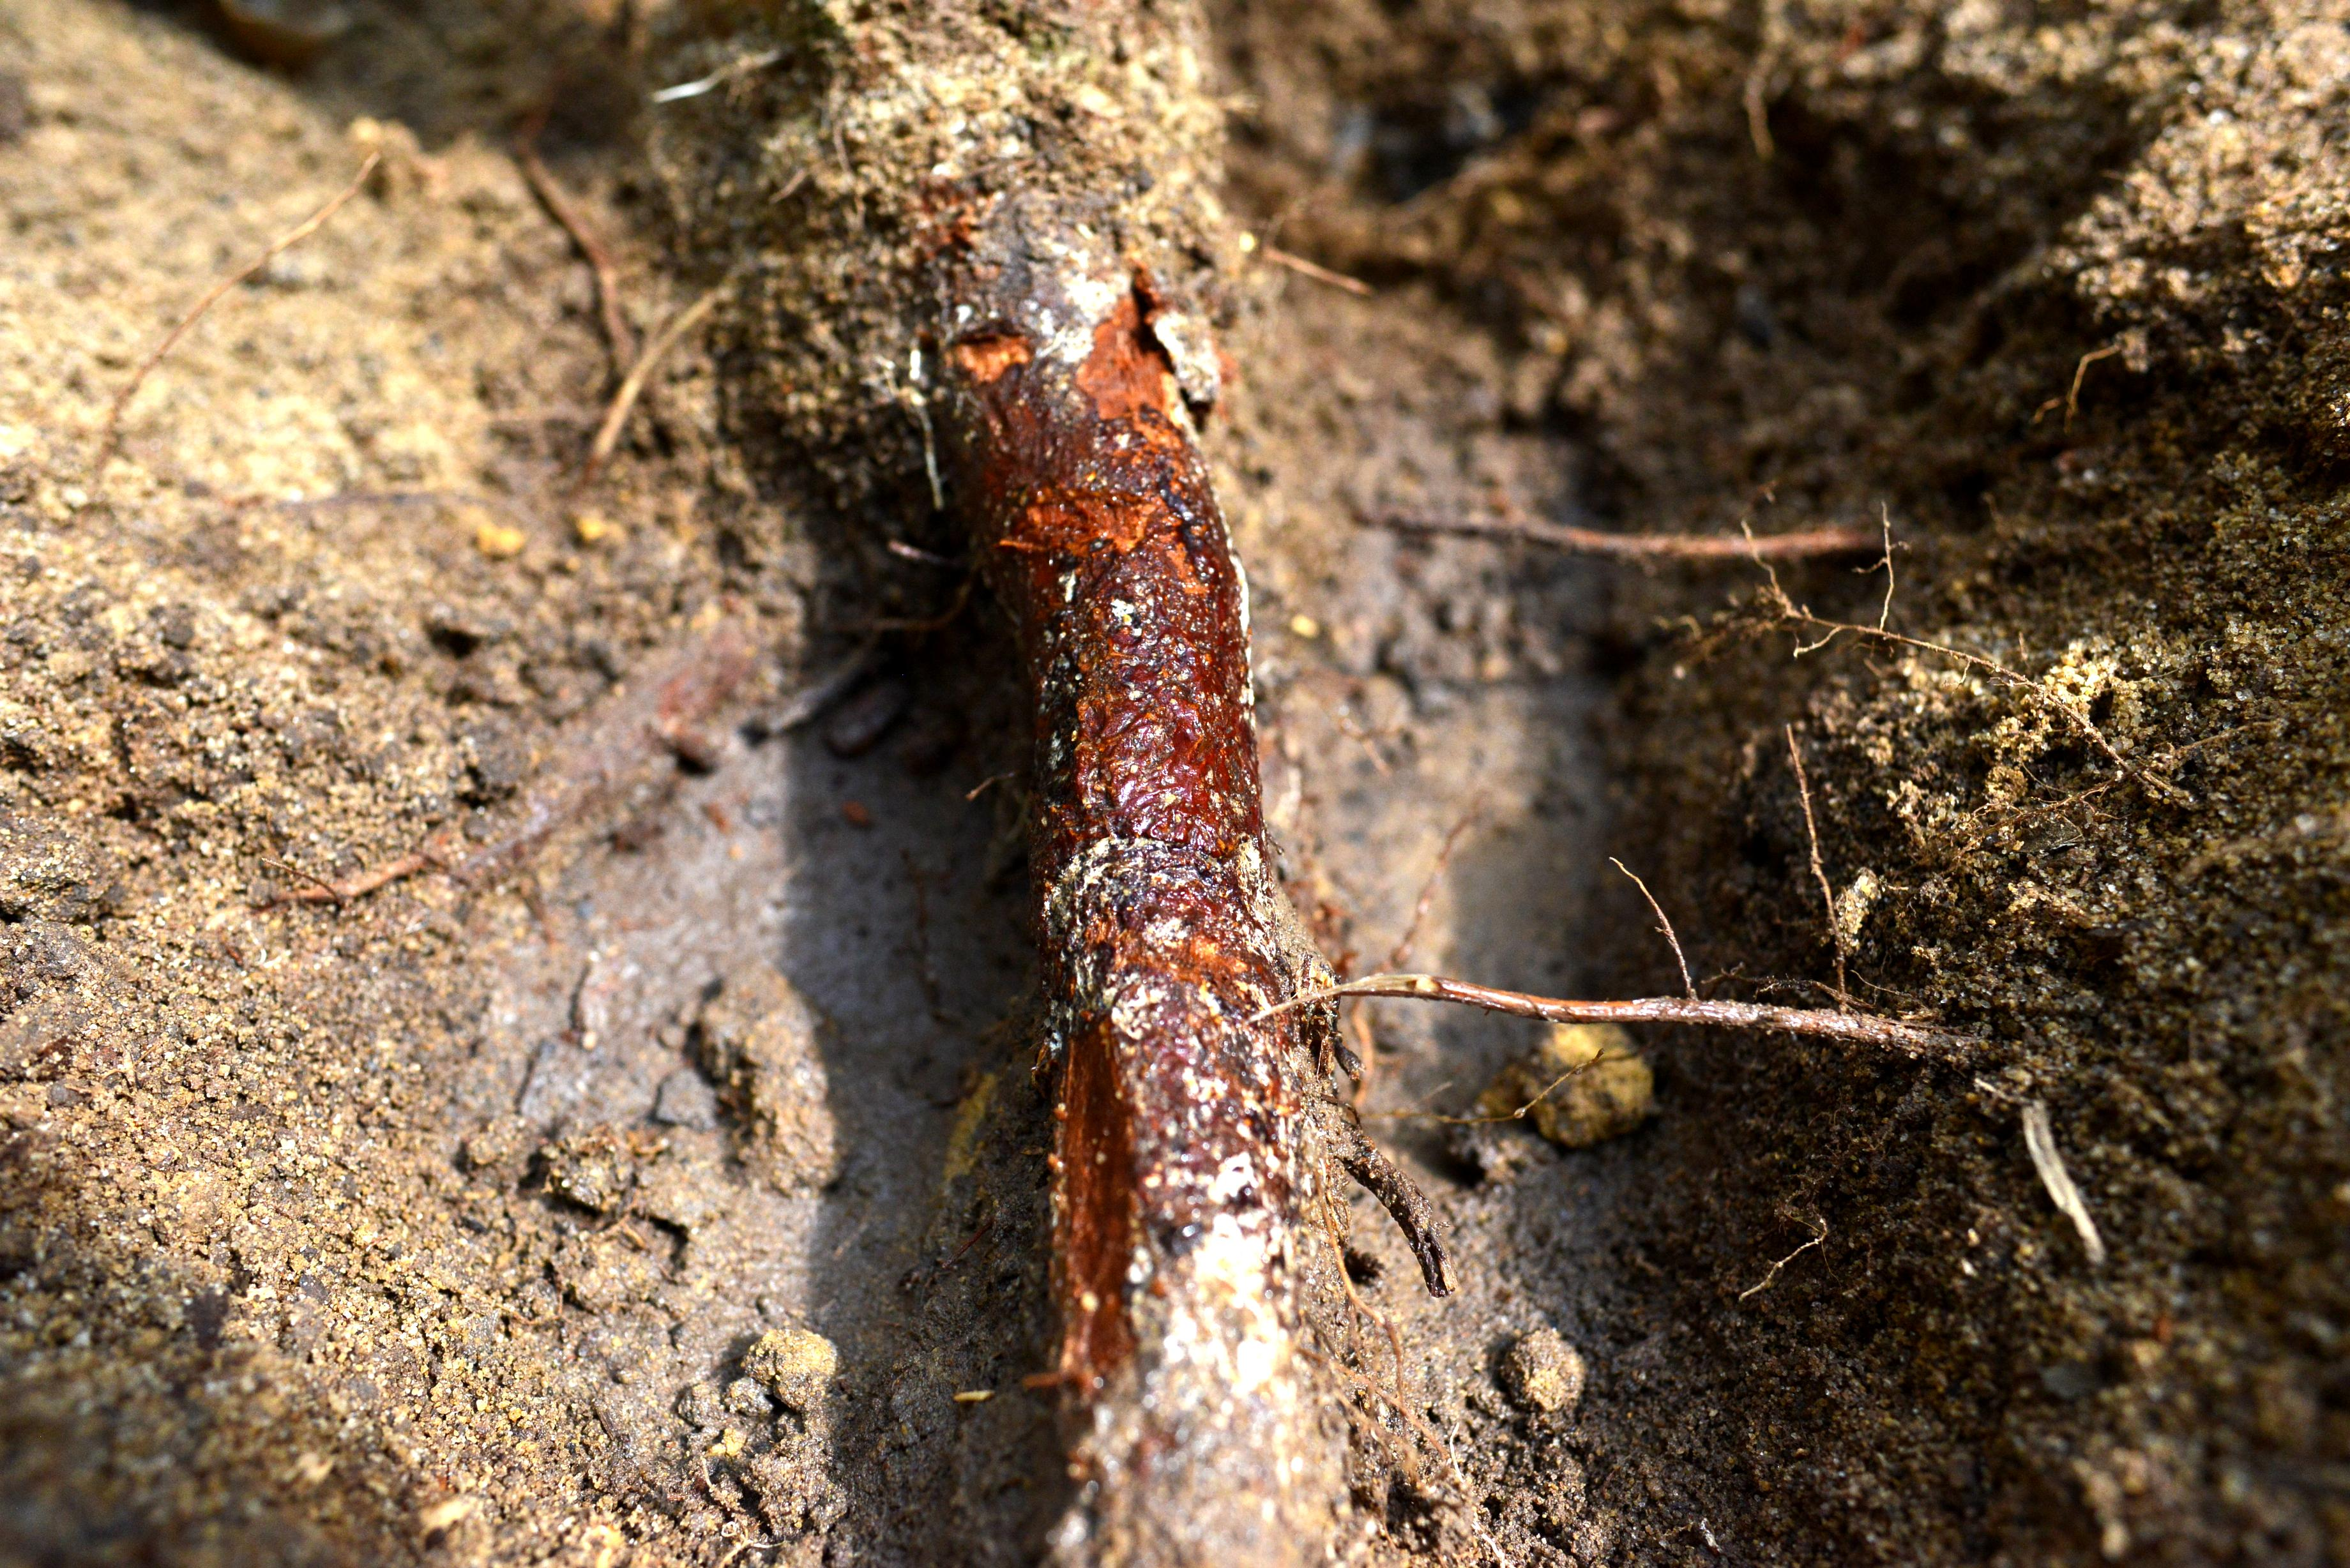Ganoderma - Mycelium: (1157, 1137, 1335, 1559), (1041, 836, 1195, 1057), (1167, 373, 1256, 633), (1008, 234, 1113, 373), (1143, 294, 1256, 415), (1055, 549, 1176, 658)
Red Root Rot - Secretion: (920, 304, 1270, 875), (1048, 1025, 1134, 1335)
